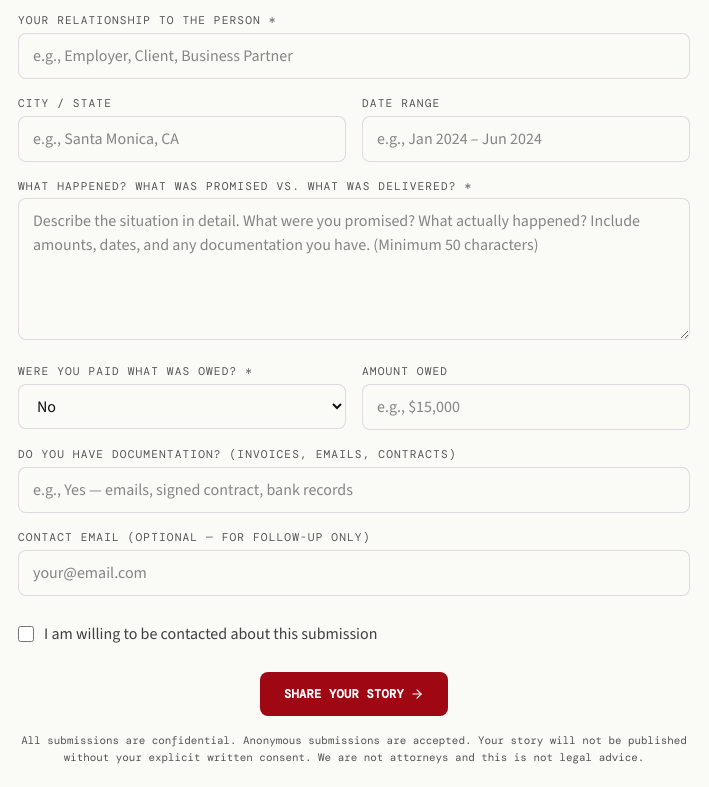
Test: StoryForm › offers a pre-filled email to Tony when saving fails, so the story isn't lost
This screenshot has width=709, height=787.
Type "Client" into the field labelled "Your relationship to the person *".
click(354, 56); type("Client")  # box x1=18 y1=33 x2=690 y2=79
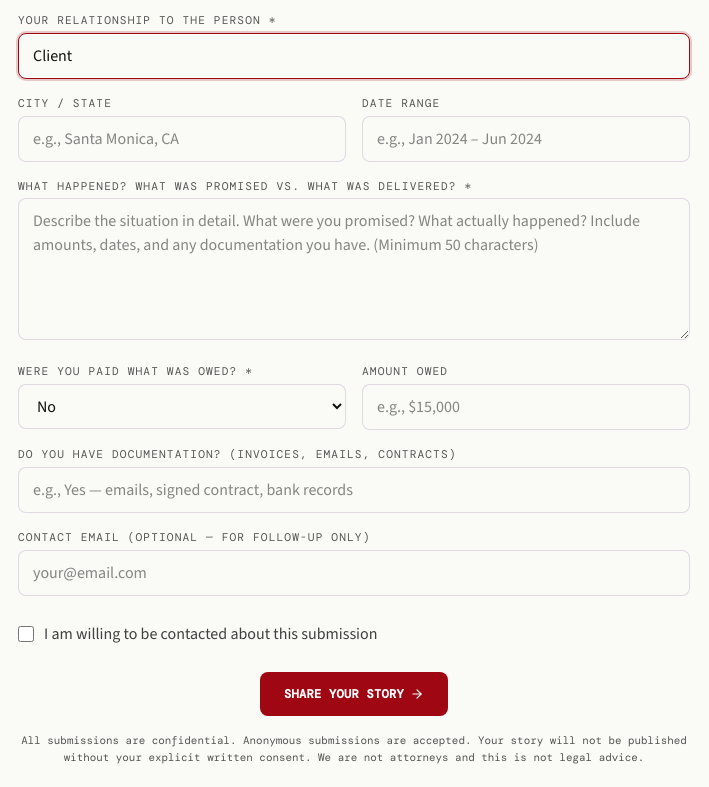
Type "They promised a finished product by March and delivered nothing, then stopped answering." into the text box labelled "What happened? What was promised vs. what was delivered? *".
click(354, 269); type("They promised a finished product by March and delivered nothing, then stopped answering.")  # box x1=18 y1=198 x2=690 y2=340
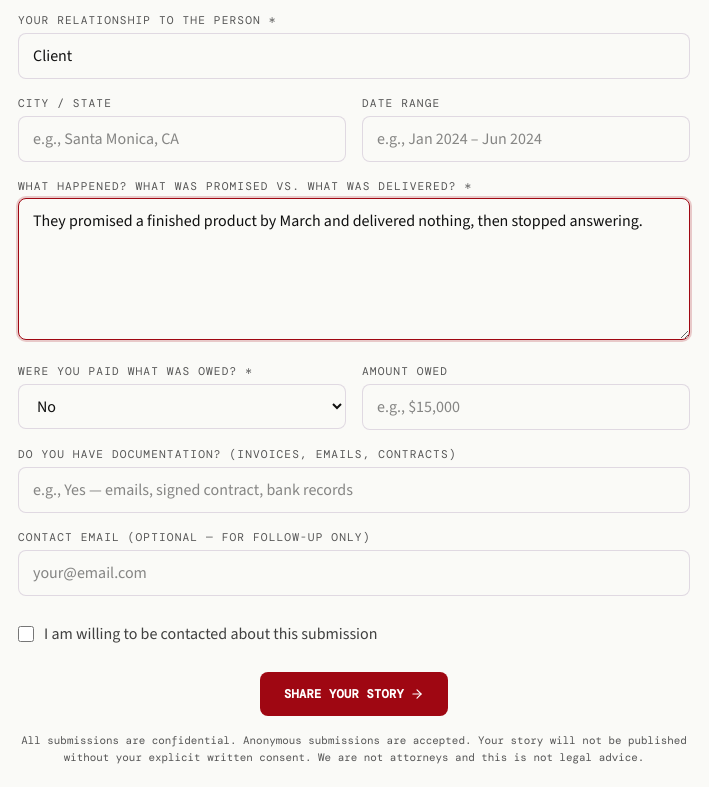
Click the button "Share Your Story".
click(354, 694)  # box x1=260 y1=672 x2=448 y2=716
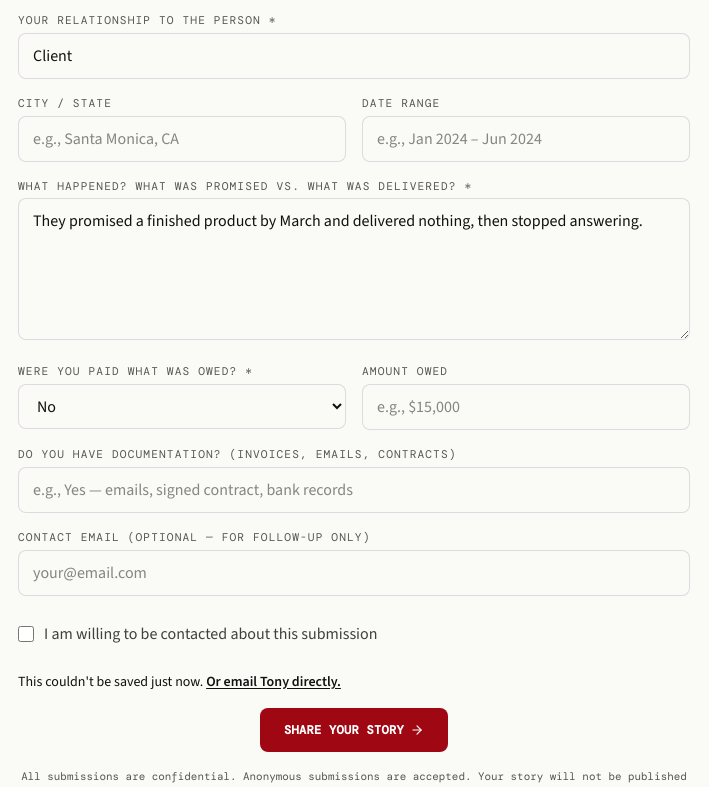
Expected: the text "This couldn't be saved just now. Or email Tony directly." is shown, x1=18 y1=672 x2=341 y2=691
